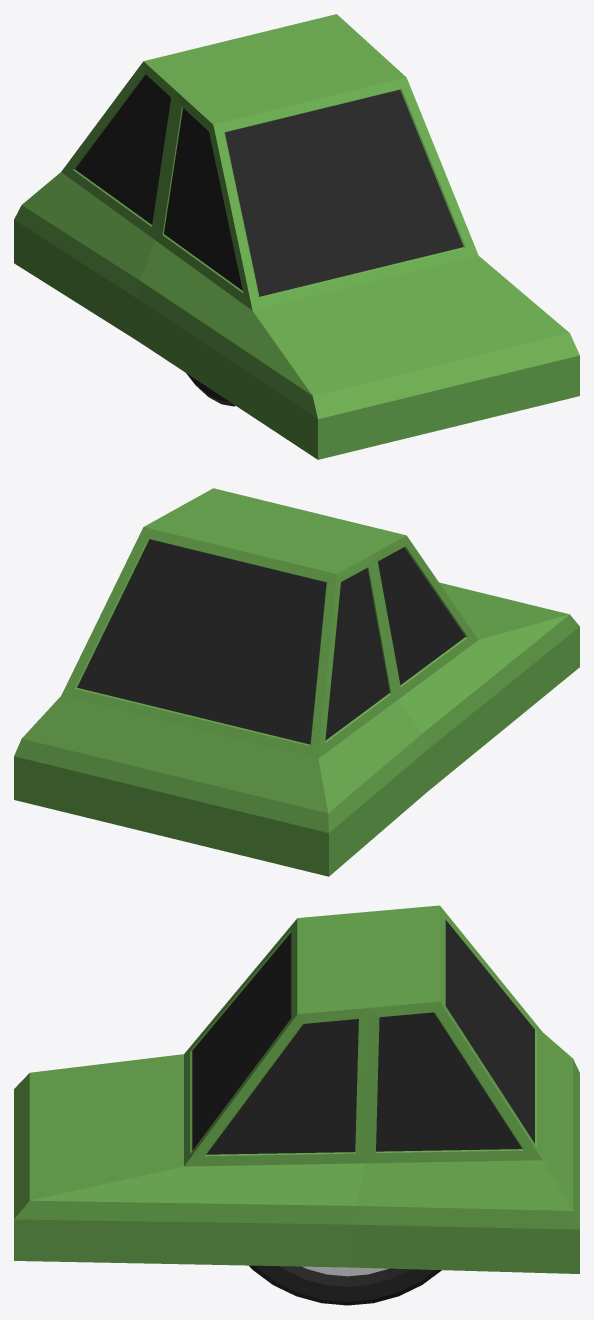
The model's file is car_green.glb.
The picture shows the model from 3 angles, top to bottom: view 1: azimuth 30°, elevation 25°; view 2: azimuth 150°, elevation 25°; view 3: azimuth 270°, elevation 25°; orthographic projection.
Visible parts, largest first — view 1: Cube; view 2: Cube; view 3: Cube, Cylinder.
Boxes of the visible parts, x1,y1,x2,y2 form: Cube: (14,14,579,459); Cube: (14,488,579,876); Cube: (14,905,579,1273); Cylinder: (249,1265,441,1305).
Size of the model in its own units: 1.67 by 1.56 by 2.55.
